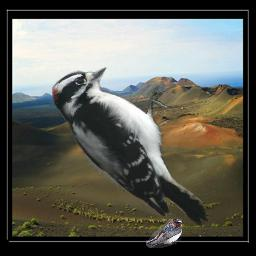Swallow: (146, 219, 182, 248)
Woodpecker: (52, 67, 208, 225)
